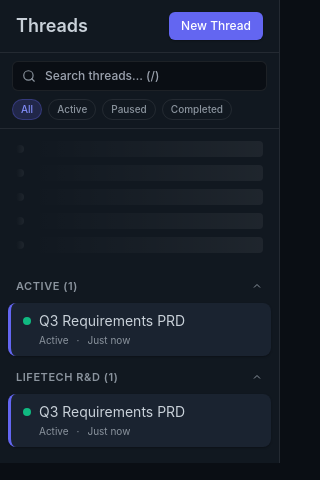
Test: ThreadNavigator › opens new thread form when New Thread clicked
This screenshot has width=320, height=480.
Step 1. Click the button with test id "new-thread-btn" → (216, 26), box [169,12,263,40]
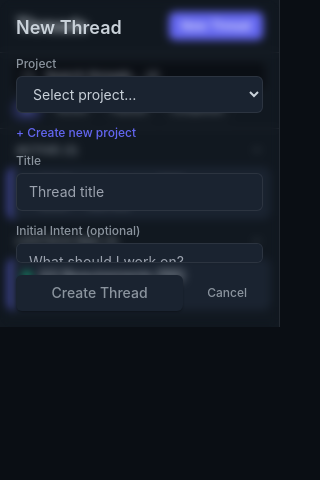
Expected: the field with test id "new-thread-title" is shown, [16,173,263,211]
